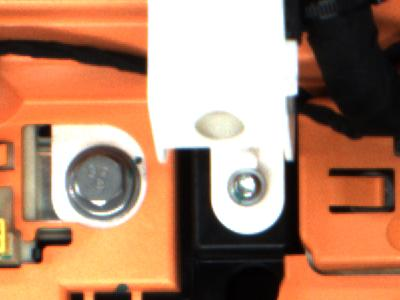nut_b: (66, 142, 147, 217)
screw_m: (219, 163, 270, 208)
